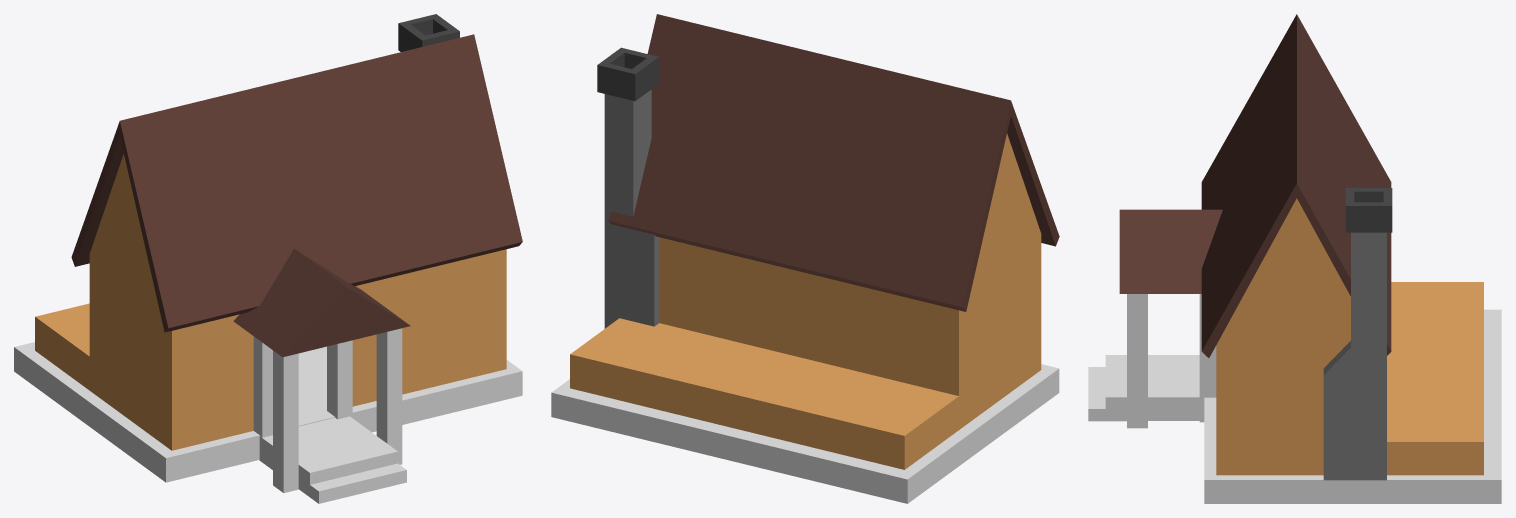
The model's file is House_08.FBX.
3 views of the same model, side by side, from view 1: azimuth 30°, elevation 25°; view 2: azimuth 150°, elevation 25°; view 3: azimuth 270°, elevation 25° (orthographic). The views are drawn at different scales.
Parts seen in each view (by area): view 1: House_08; view 2: House_08; view 3: House_08.
Boxes of the visible parts, left/top/right/bottom form: House_08: left=14, top=14, right=522, bottom=503; House_08: left=551, top=14, right=1059, bottom=503; House_08: left=1088, top=14, right=1501, bottom=503.
Size of the model in its own units: 8.25 by 7.06 by 8.24.
Materials: 1 (1 with a texture image).
